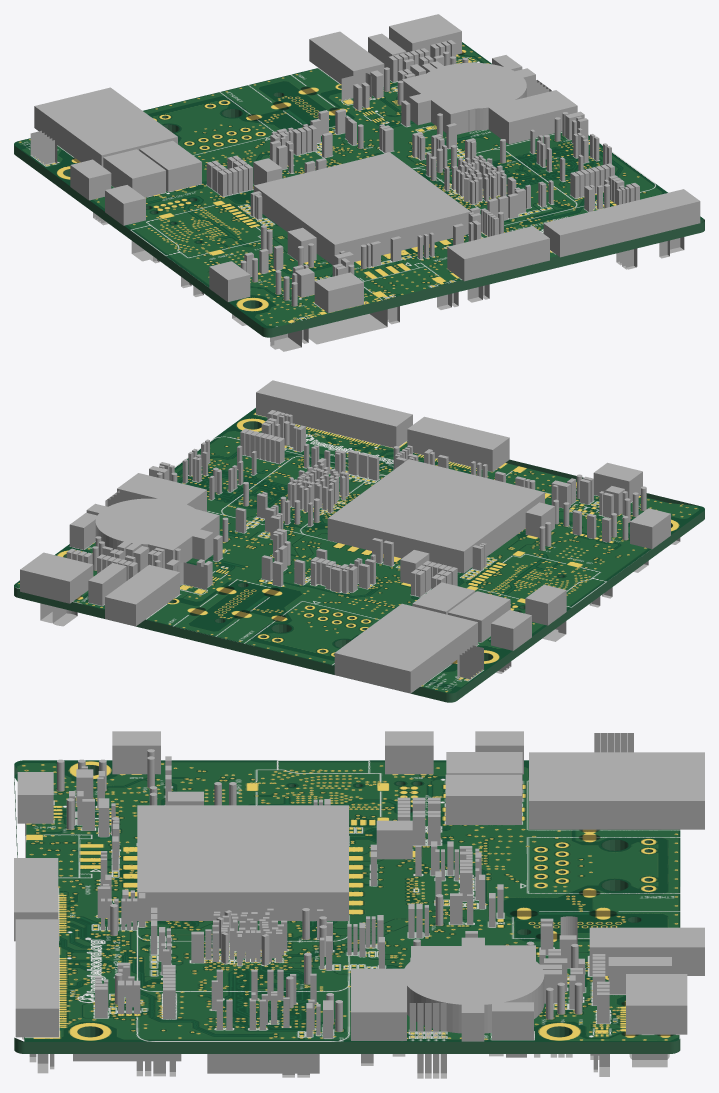
File: full-board.glb
3 views of the same model, one above another, from view 1: azimuth 30°, elevation 25°; view 2: azimuth 150°, elevation 25°; view 3: azimuth 270°, elevation 25° (orthographic). The views are drawn at different scales.
Visible parts, largest first — view 1: Box0, J21, J2, J10, J8, J17, J19, J13, L2, J14, L1, J18 (+8 smaller); view 2: Box0, J21, J2, J10, J8, J17, J13, J14, J19, L2, SW1, SW3 (+8 smaller); view 3: Box0, J21, J2, J10, J8, J13, J19, L1, J14, J17, SW2, SW3 (+8 smaller).
Boxes of the visible parts, x1,y1,x2,y2 form: Box0: [14, 42, 704, 337]; J21: [253, 152, 470, 265]; J2: [34, 87, 177, 166]; J10: [401, 62, 535, 134]; J8: [543, 189, 700, 257]; J17: [447, 226, 549, 281]; J19: [488, 90, 577, 144]; J13: [309, 31, 384, 85]; L2: [103, 149, 165, 197]; J14: [389, 14, 461, 56]; L1: [139, 140, 201, 191]; J18: [314, 272, 363, 312]; Box0: [14, 408, 704, 702]; J21: [327, 459, 544, 573]; J2: [334, 603, 477, 693]; J10: [86, 498, 219, 568]; J8: [256, 380, 412, 447]; J17: [407, 416, 509, 471]; J13: [105, 564, 179, 626]; J14: [20, 552, 93, 603]; J19: [117, 473, 206, 511]; L2: [448, 591, 510, 642]; SW1: [491, 610, 531, 650]; SW3: [630, 508, 670, 549]; Box0: [14, 760, 680, 1053]; J21: [137, 805, 348, 920]; J2: [529, 752, 704, 829]; J10: [404, 937, 544, 1041]; J8: [15, 919, 58, 1037]; J13: [589, 927, 704, 975]; J19: [351, 968, 406, 1040]; L1: [445, 774, 521, 824]; J14: [626, 974, 687, 1034]; J17: [14, 858, 58, 941]; SW2: [385, 731, 433, 774]; SW3: [112, 731, 160, 774].
Bounding box in the file's own units: 80.11 × 9.22 × 82.97.
Materials: 5 (2 with a texture image).
